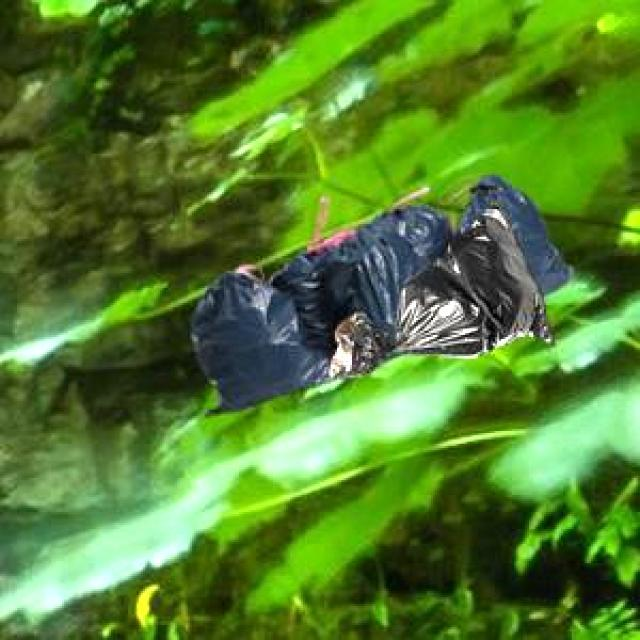Garbage_Bag: (188, 172, 570, 413), (328, 188, 552, 376)
